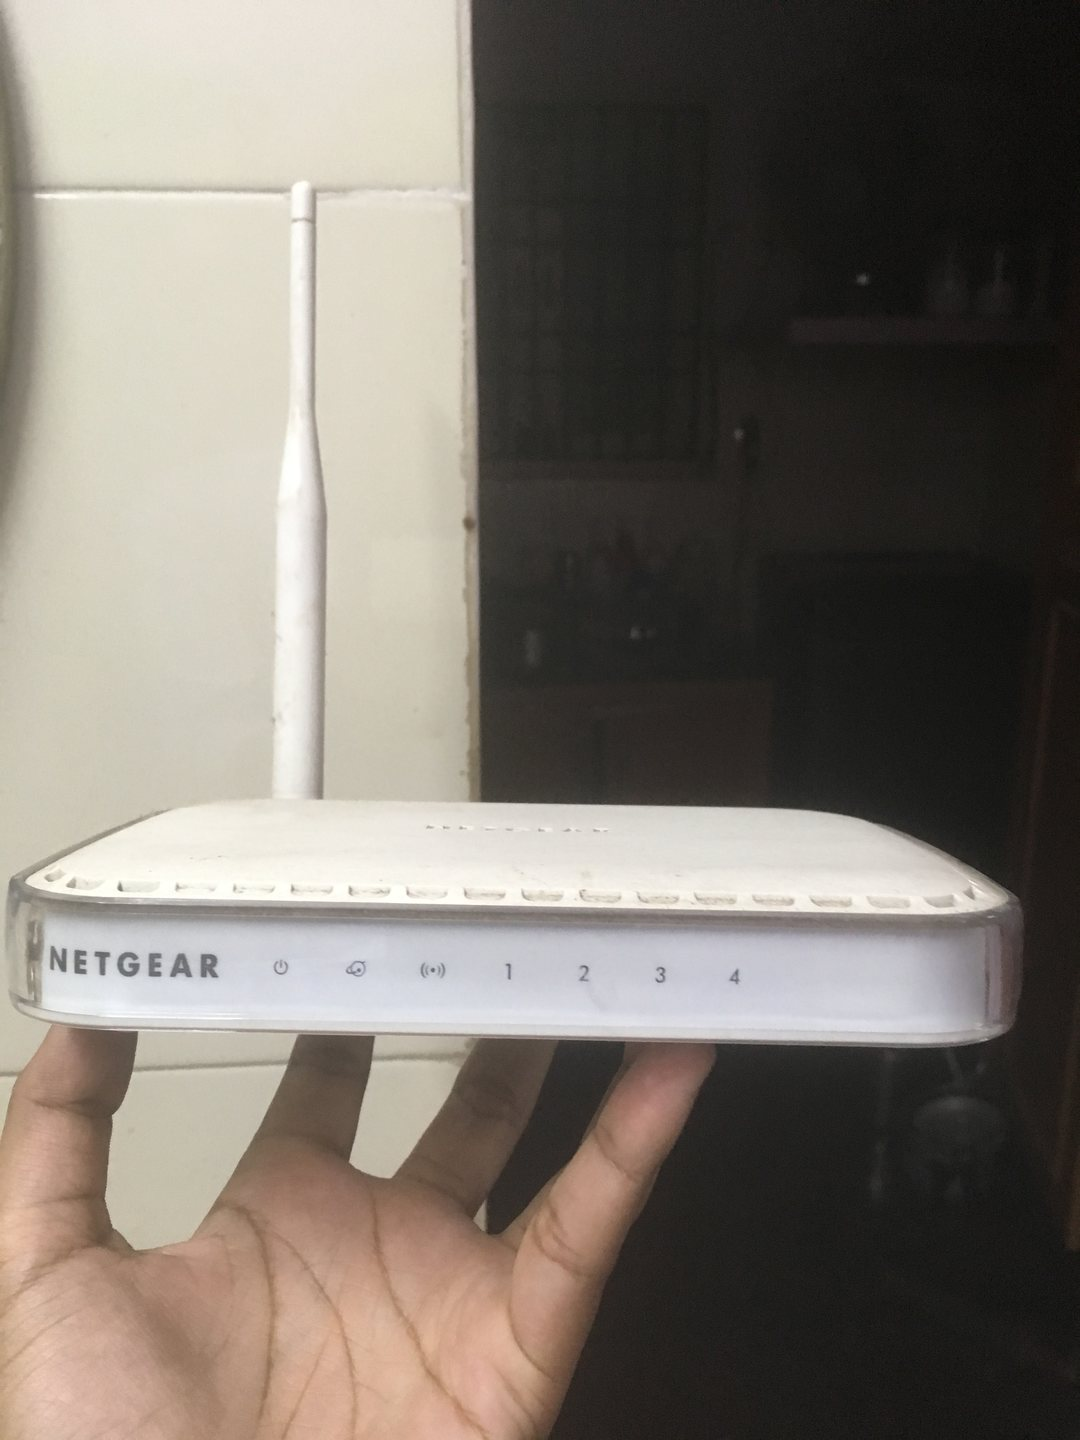NETGEAR: (44, 939, 226, 986)
modem: (7, 883, 1029, 1047)
